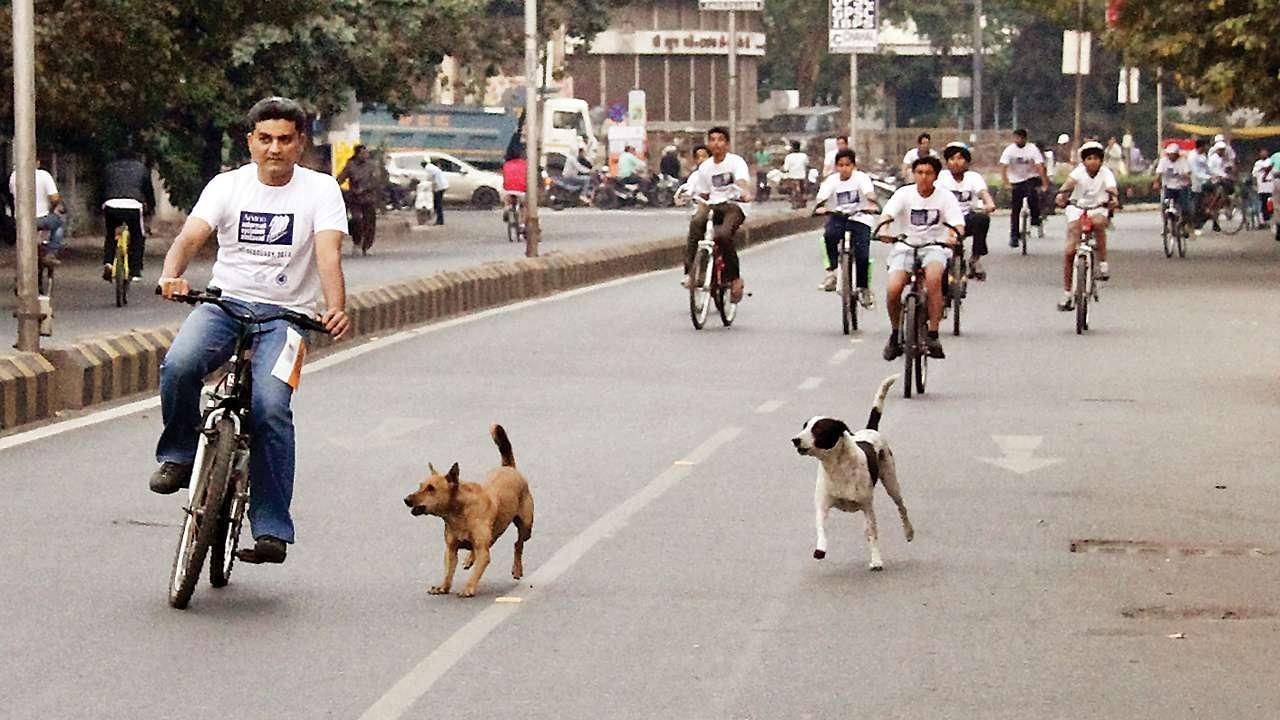dog_aggressive: (383, 413, 559, 609), (792, 369, 926, 579)
